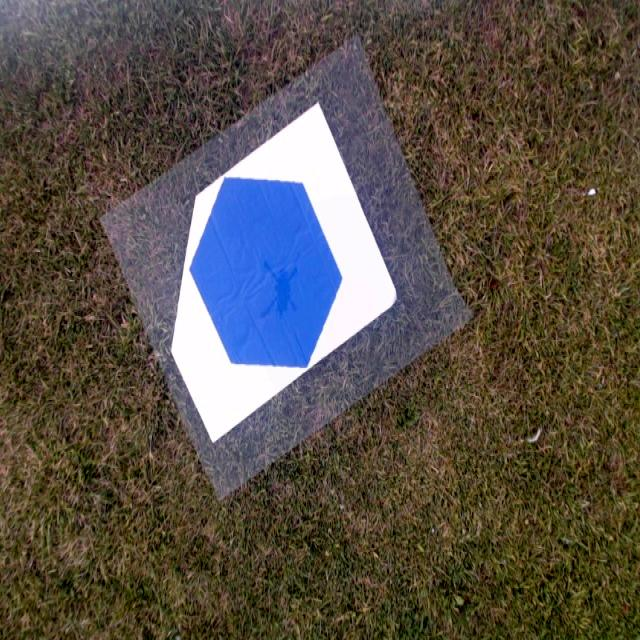blue_hexagon: (188, 178, 343, 370)
